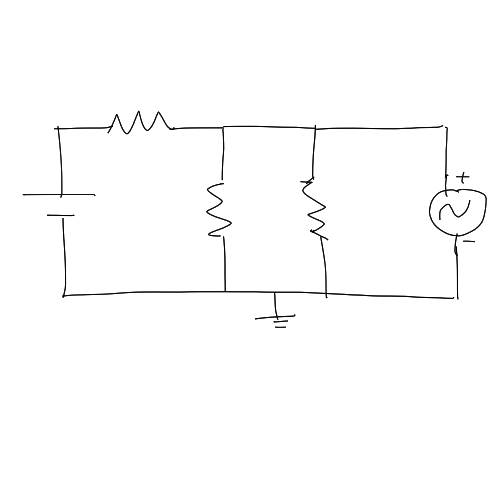acvs: (427, 171, 490, 246)
dcvs: (15, 187, 109, 224)
gnd: (243, 313, 310, 332)
res: (296, 170, 333, 244), (206, 172, 234, 244), (102, 110, 186, 133)
